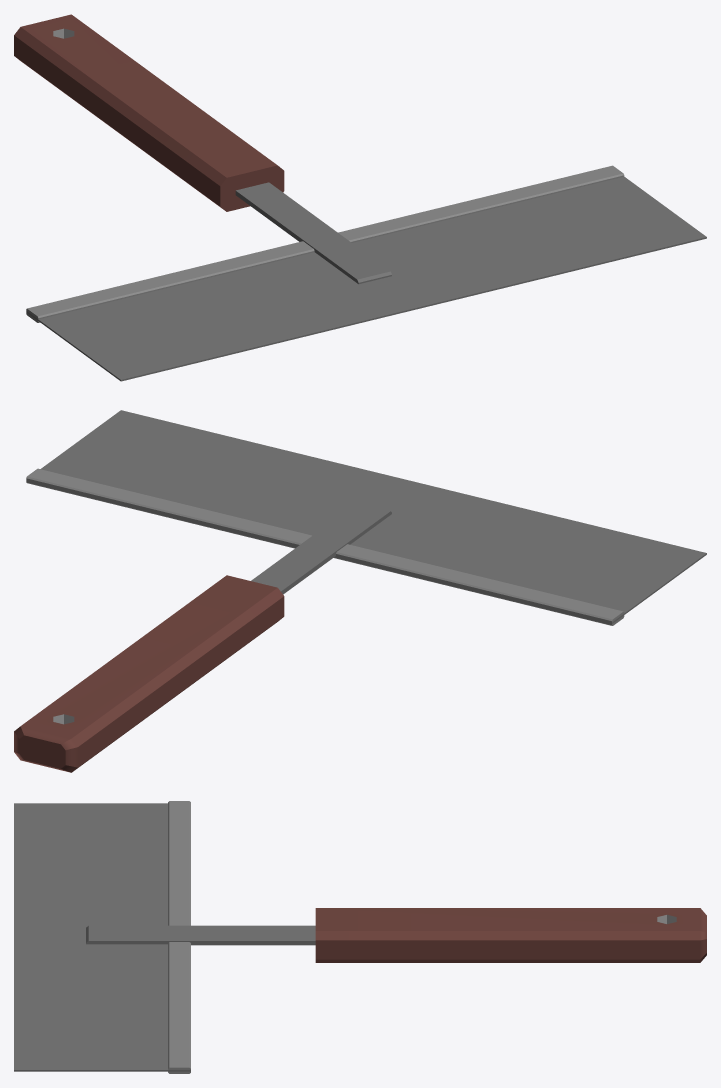
Rendered from Flipper2.fbx.
3 views of the same model, one above another, from view 1: azimuth 30°, elevation 25°; view 2: azimuth 150°, elevation 25°; view 3: azimuth 270°, elevation 25° (orthographic). The views are drawn at different scales.
Parts seen in each view (by area): view 1: Flipper2; view 2: Flipper2; view 3: Flipper2.
Boxes of the visible parts, x1,y1,x2,y2 form: Flipper2: (14,14,706,381); Flipper2: (14,410,706,772); Flipper2: (14,801,706,1073).
Bounding box in the file's own units: 47.46 × 2.65 × 52.12.
